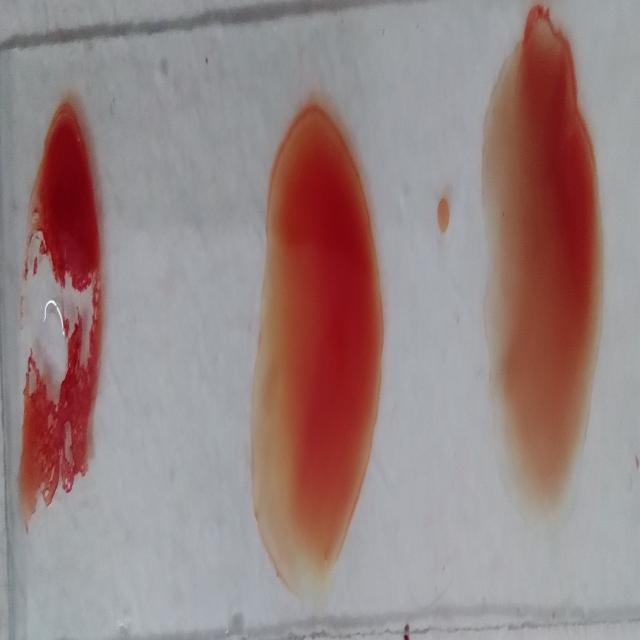D: (11, 82, 102, 529)
